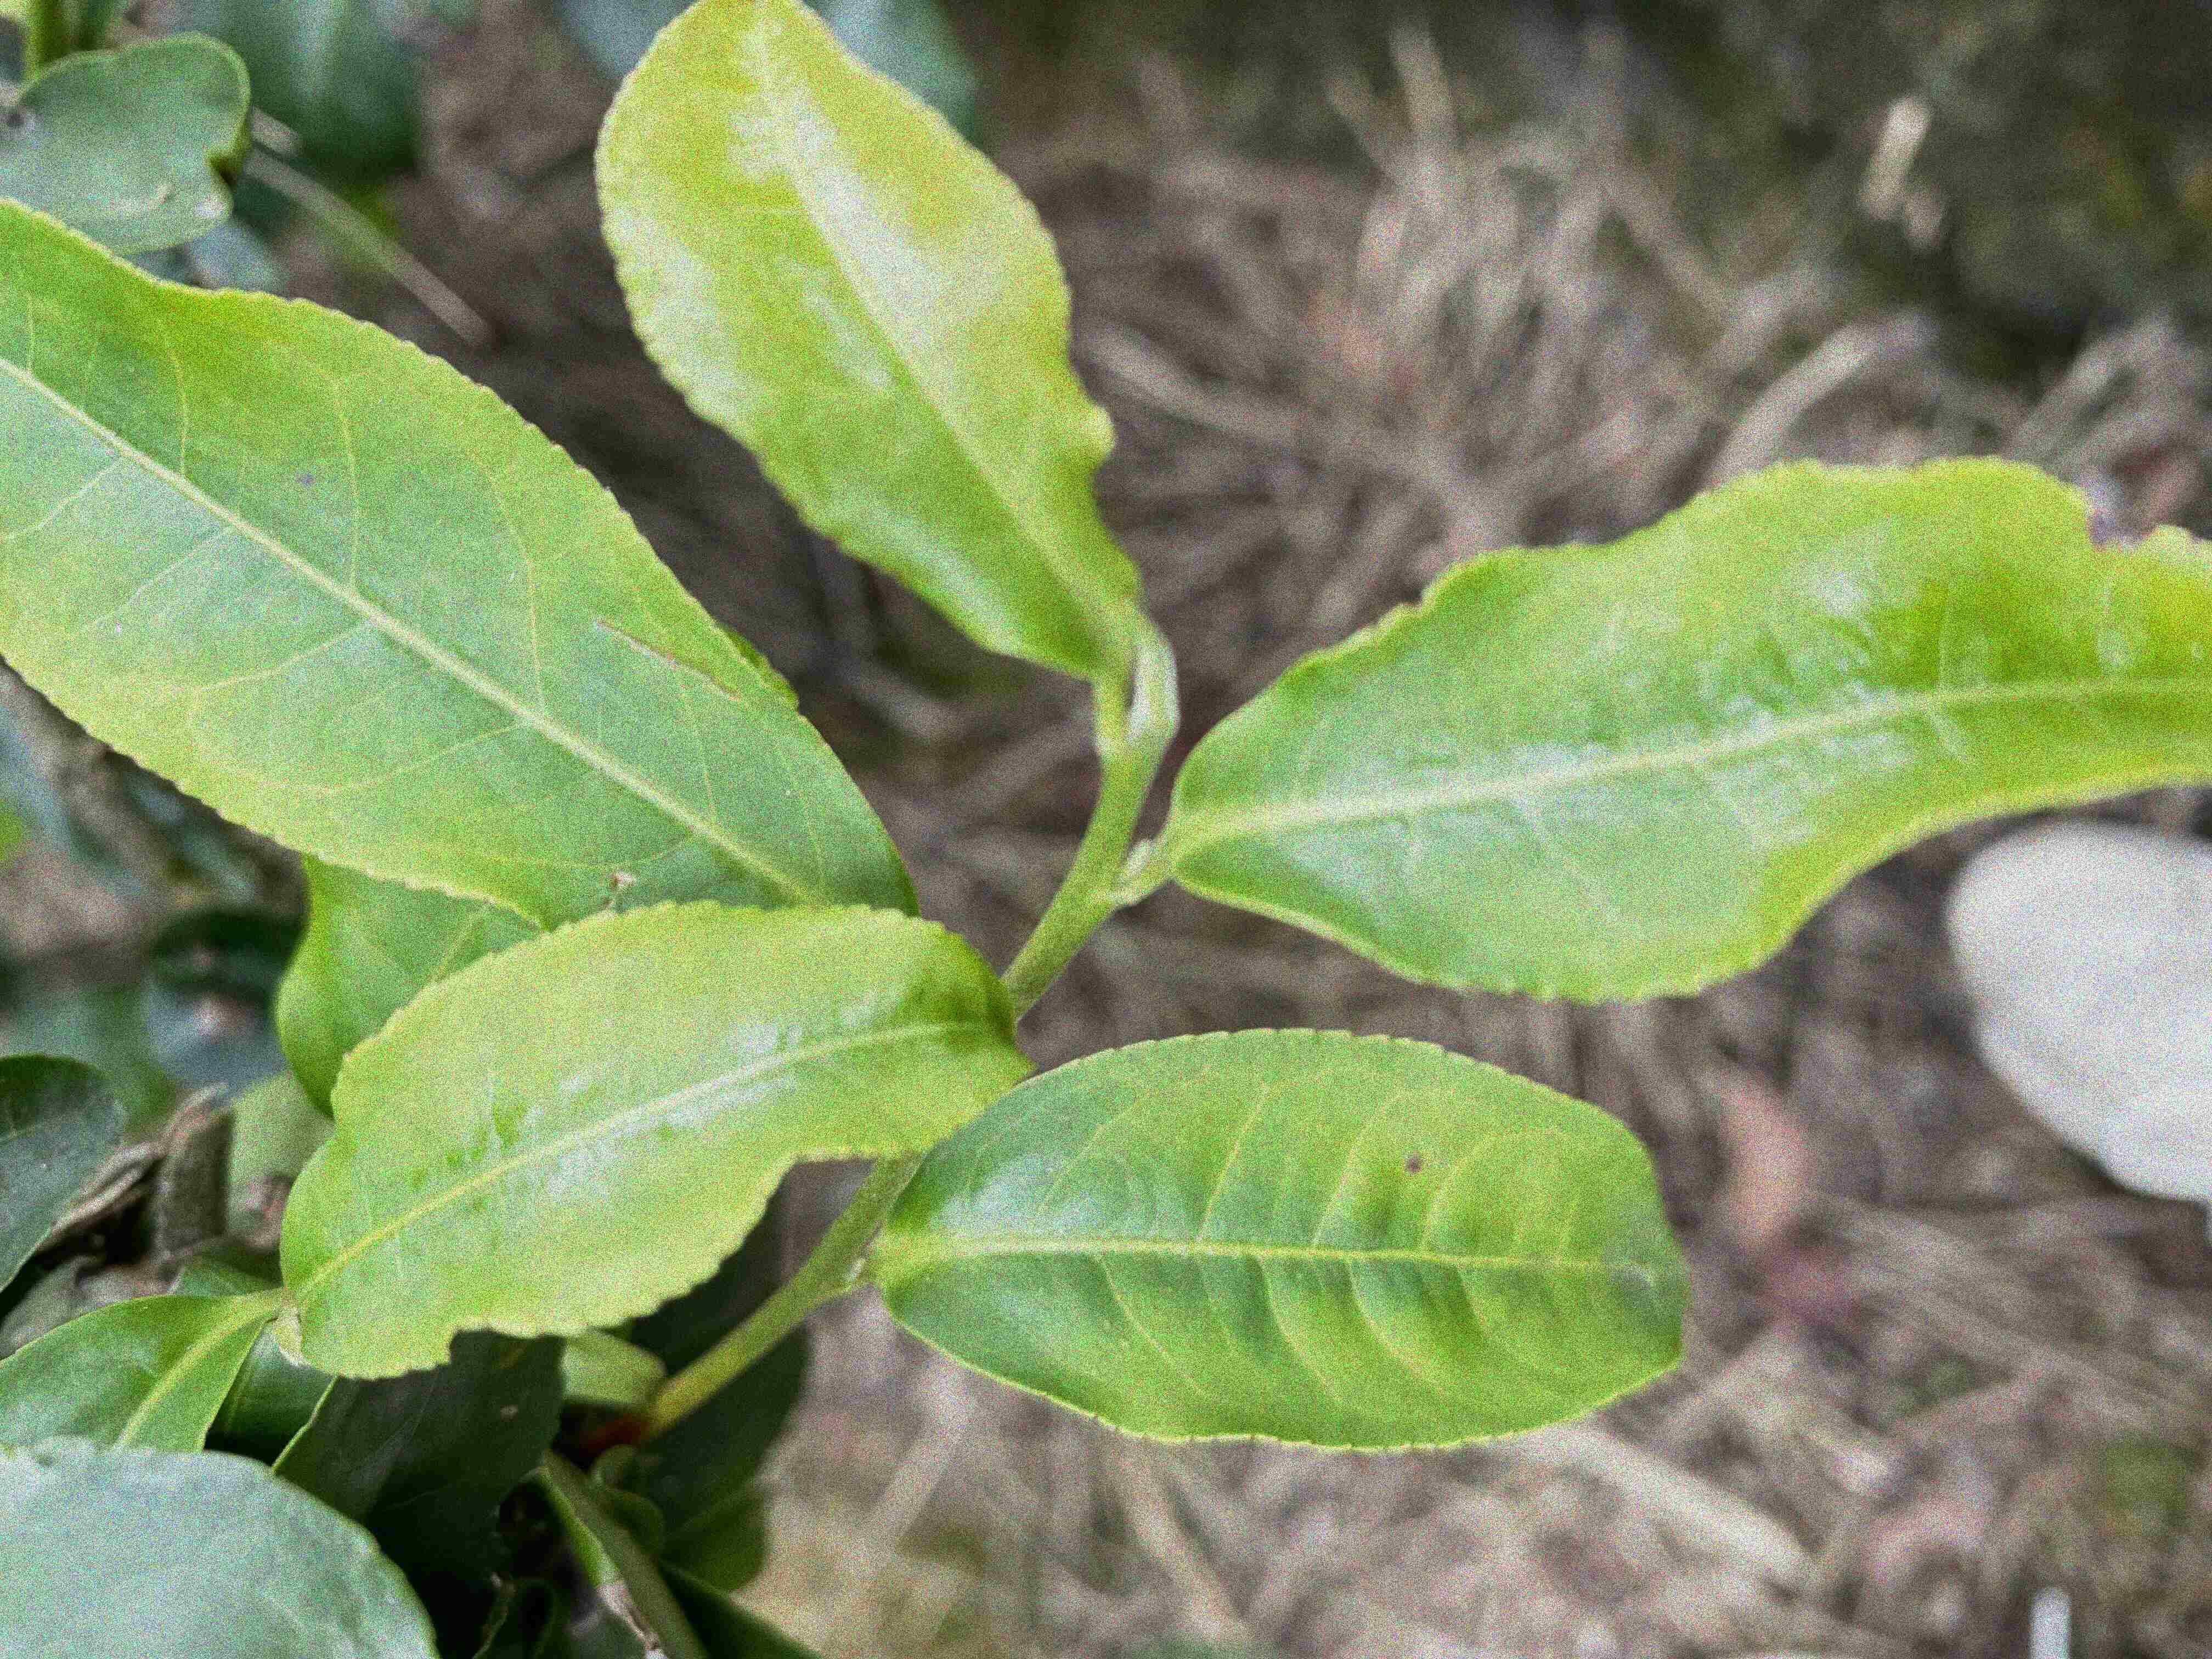healthy: (592, 2, 1141, 676), (275, 896, 1035, 1382)
tanju_low: (1165, 450, 2207, 1004), (878, 1016, 1691, 1453)
